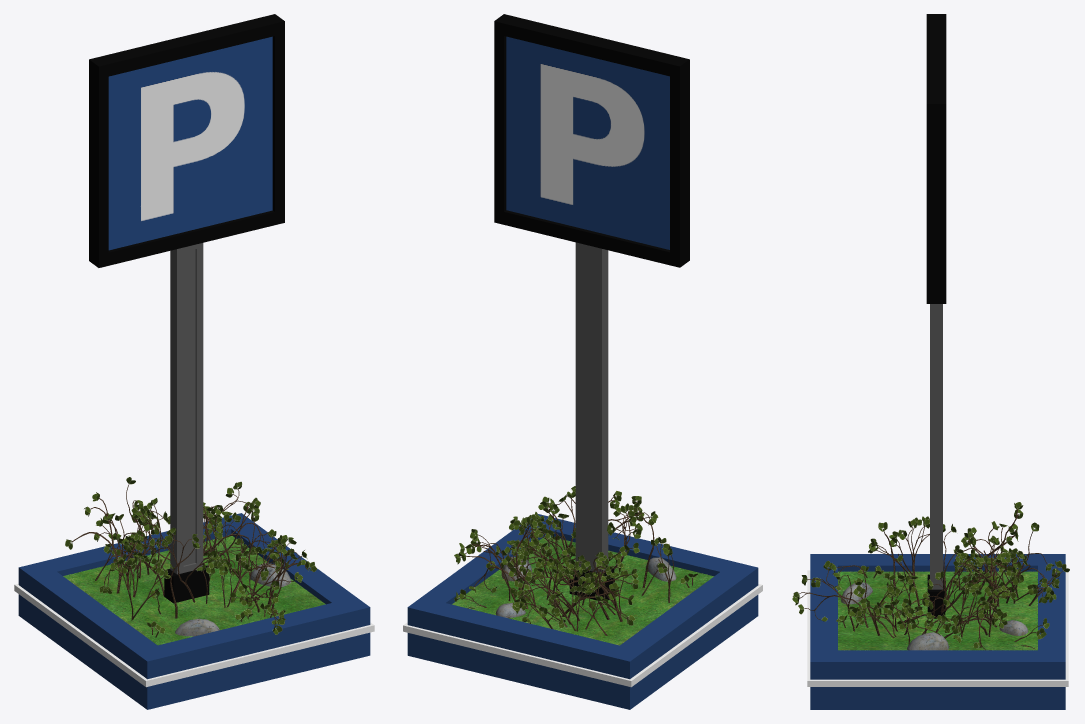
The model's file is objSign.obj.
3 views of the same model, side by side, from view 1: azimuth 30°, elevation 25°; view 2: azimuth 150°, elevation 25°; view 3: azimuth 270°, elevation 25° (orthographic).
Visible parts, largest first — view 1: sign, floor; view 2: sign, floor; view 3: floor, sign.
Boxes of the visible parts, x1,y1,x2,y2 form: sign: [89, 14, 284, 603]; floor: [14, 477, 374, 709]; sign: [494, 14, 689, 601]; floor: [403, 486, 762, 709]; floor: [792, 502, 1069, 709]; sign: [926, 14, 946, 618].
Bounding box in the file's own units: 5.12 × 12.8 × 5.46.
Materials: 9 (5 with a texture image).
